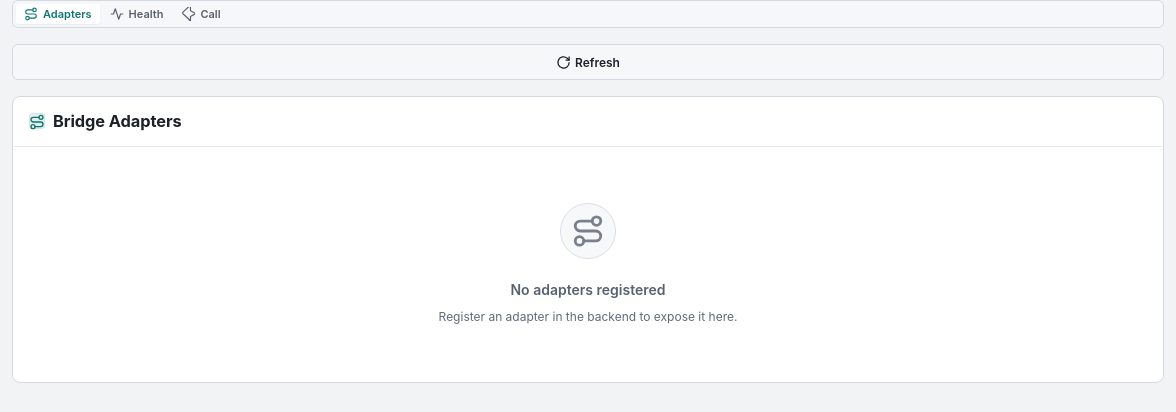
Test case: AgentProxy.vue › switches to health tab when clicked
The image size is (1176, 412).
tabOptions: adapters, health, call → health is index 1
What coordinates should you click on to do the following:
click the radio button with class "segmented__item" showing "Health"
I would click on:
 (136, 14)
Its box is [102, 4, 171, 24].
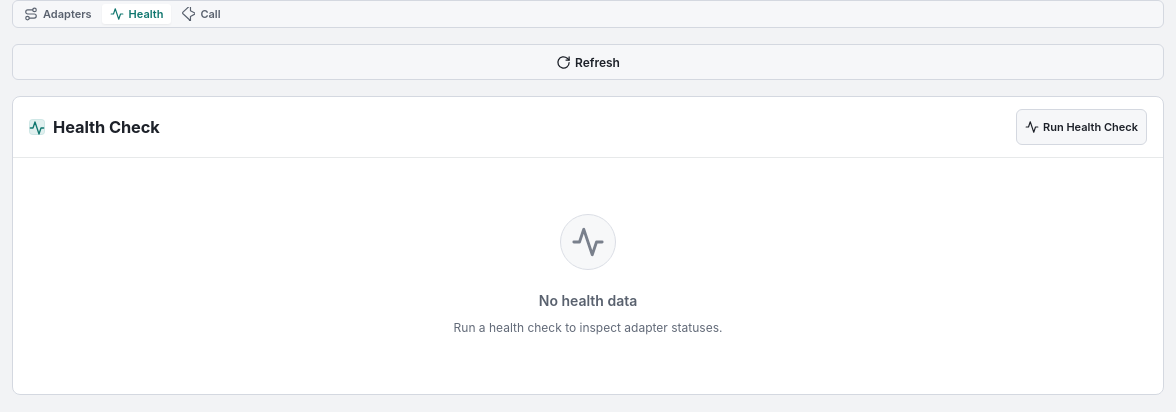
Check: the text "Health Check" is shown, box [53, 115, 160, 139]
